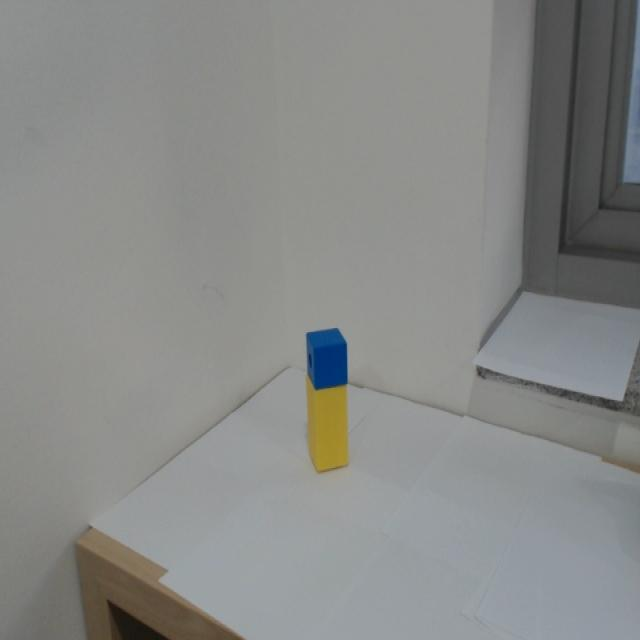cube: (304, 326, 349, 392)
